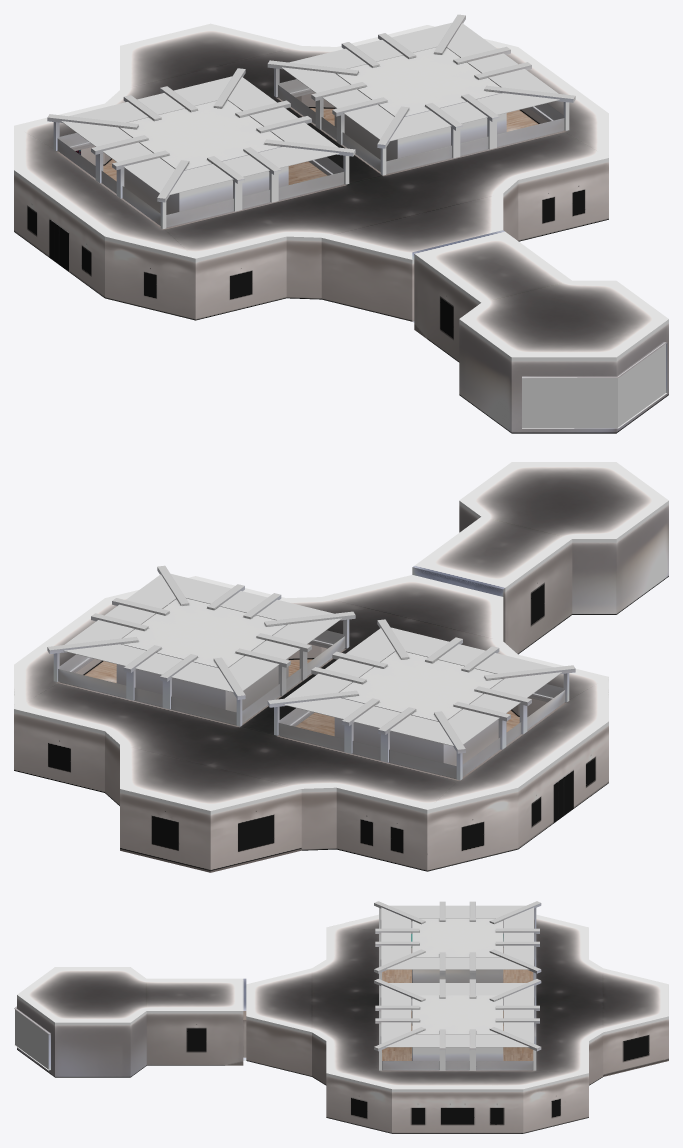
The model's file is VR_Gallery_Sephora_baked.fbx.
The picture shows the model from 3 angles, top to bottom: view 1: azimuth 30°, elevation 25°; view 2: azimuth 150°, elevation 25°; view 3: azimuth 270°, elevation 25°; orthographic projection. The views are drawn at different scales.
Visible parts, largest first — view 1: ceiling.001, walls.001, wiindows.001, floor.001; view 2: ceiling.001, walls.001, wiindows.001, floor.001; view 3: ceiling.001, walls.001, wiindows.001, floor.001.
Part boxes in pixels (<box>): ceiling.001: <box>14,14,668,357</box>; walls.001: <box>14,47,668,433</box>; wiindows.001: <box>61,22,665,427</box>; floor.001: <box>103,108,538,322</box>; ceiling.001: <box>14,462,668,810</box>; walls.001: <box>14,501,668,872</box>; wiindows.001: <box>63,574,561,746</box>; floor.001: <box>84,659,519,736</box>; ceiling.001: <box>17,901,668,1089</box>; walls.001: <box>14,918,668,1133</box>; wiindows.001: <box>15,905,533,1069</box>; floor.001: <box>243,969,533,1060</box>.
Bounding box in the file's own units: 5551 × 1090 × 8642.
